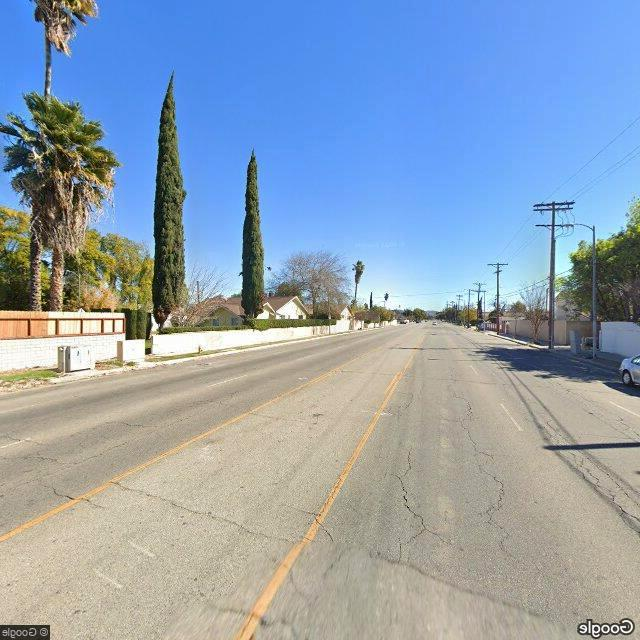crack: (88, 472, 337, 550), (452, 369, 519, 562), (542, 416, 640, 521), (394, 418, 431, 564), (28, 477, 115, 514)
